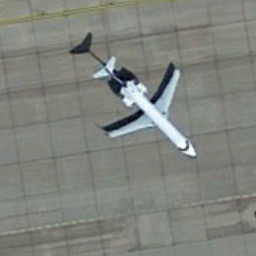Airplane: (84, 48, 212, 173)
